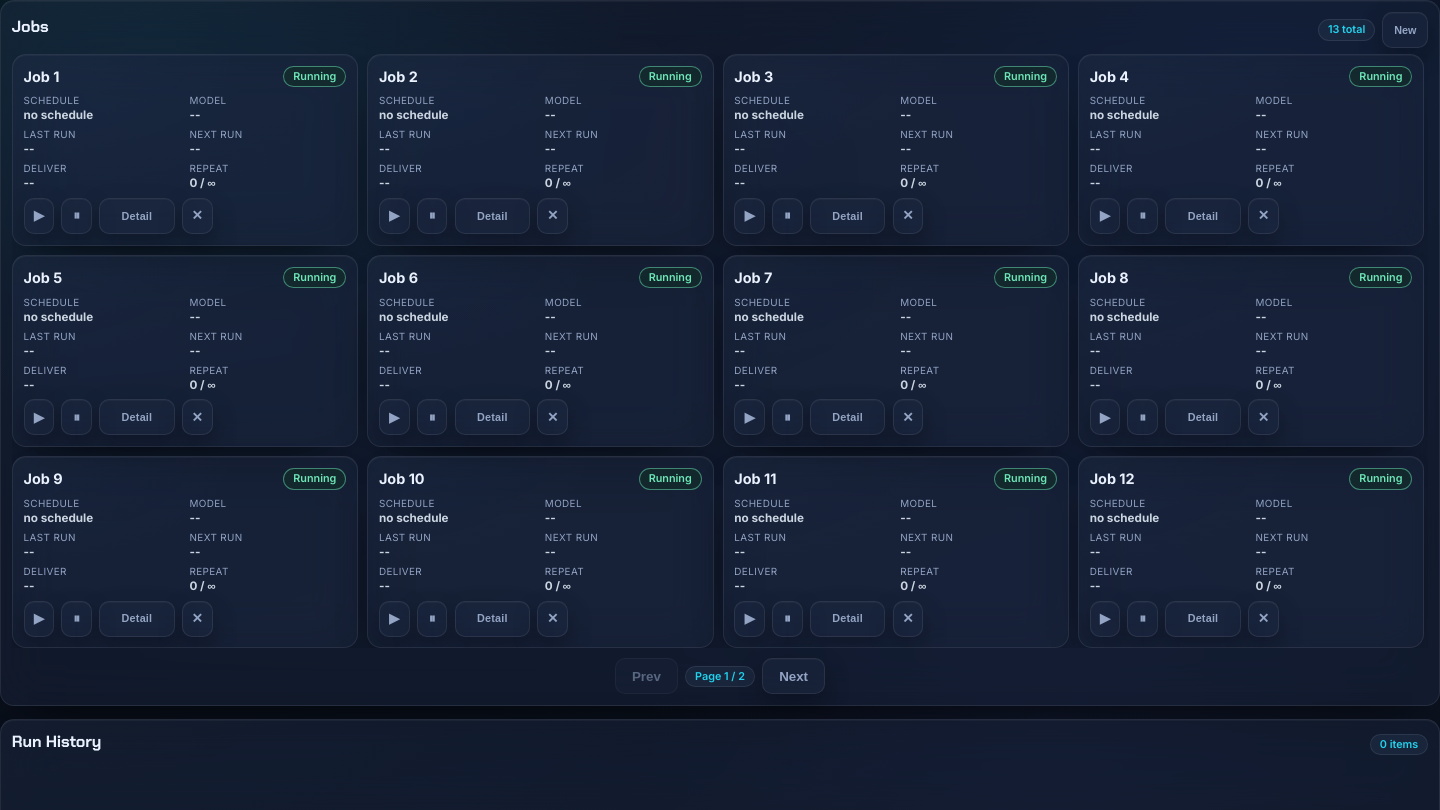
Test case: CronPage behavior › shows at most 12 job cards per page and supports pagination buttons
Click the button "Next". click: (794, 676)
box: [762,658,825,694]
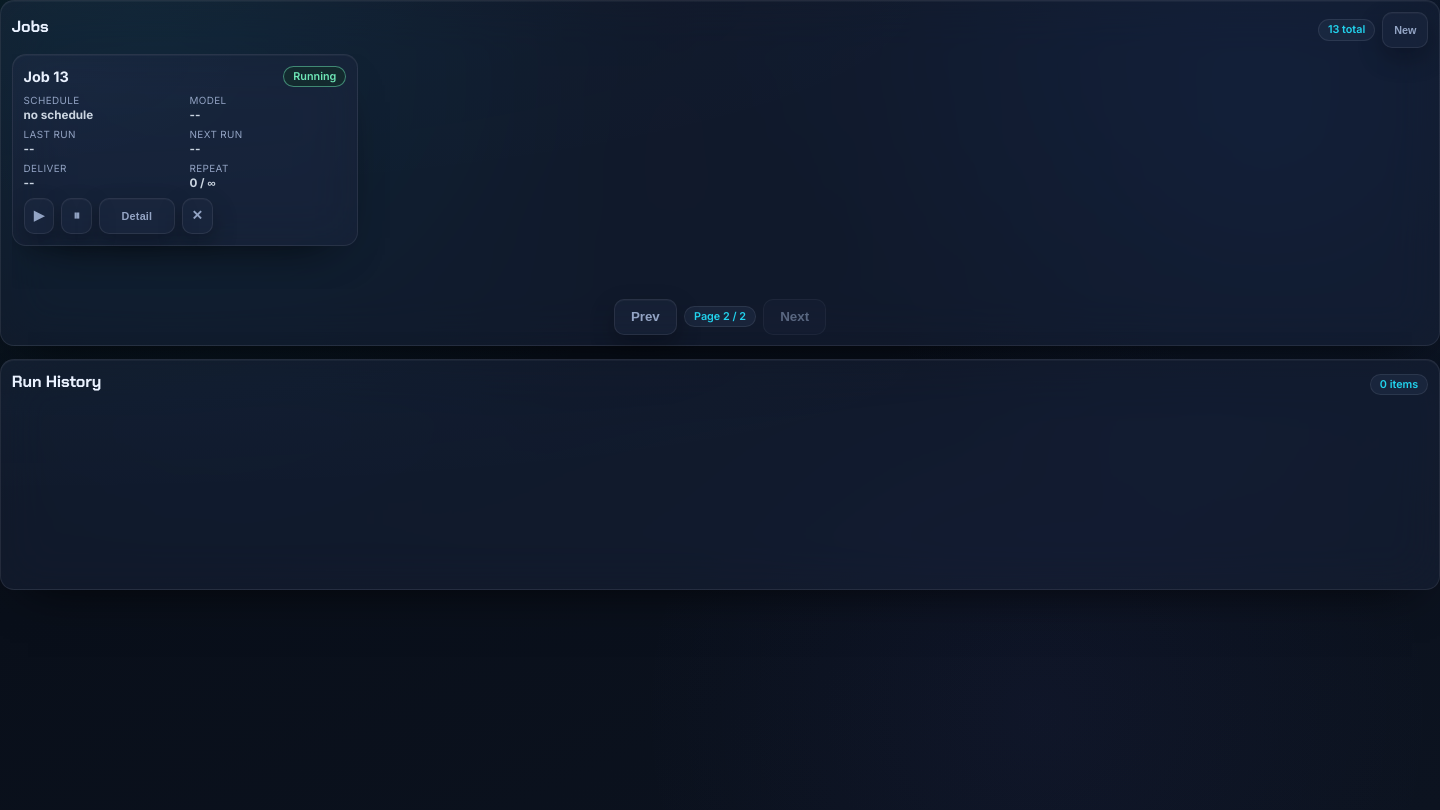
Expected: the text "Page 2 / 2" is shown, [684,306,756,327]
Expected: the text "Job 13" is shown, [24,68,69,85]
